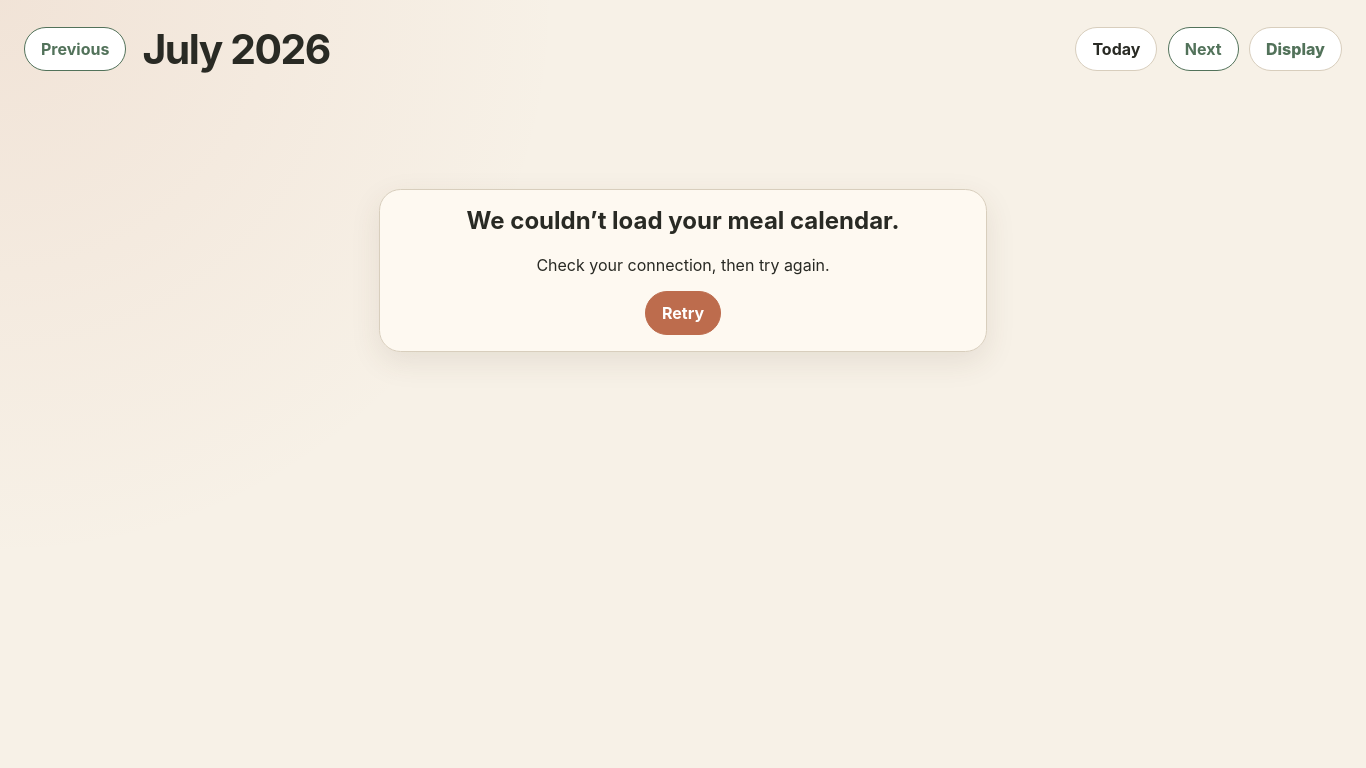
MealPlannerPage › shows a fatal initial error and retries both query families
expect the heading "We couldn’t load your meal calendar." is shown: met, box x1=467 y1=206 x2=899 y2=235
Click the button "Retry": (683, 313) x1=645 y1=291 x2=721 y2=335
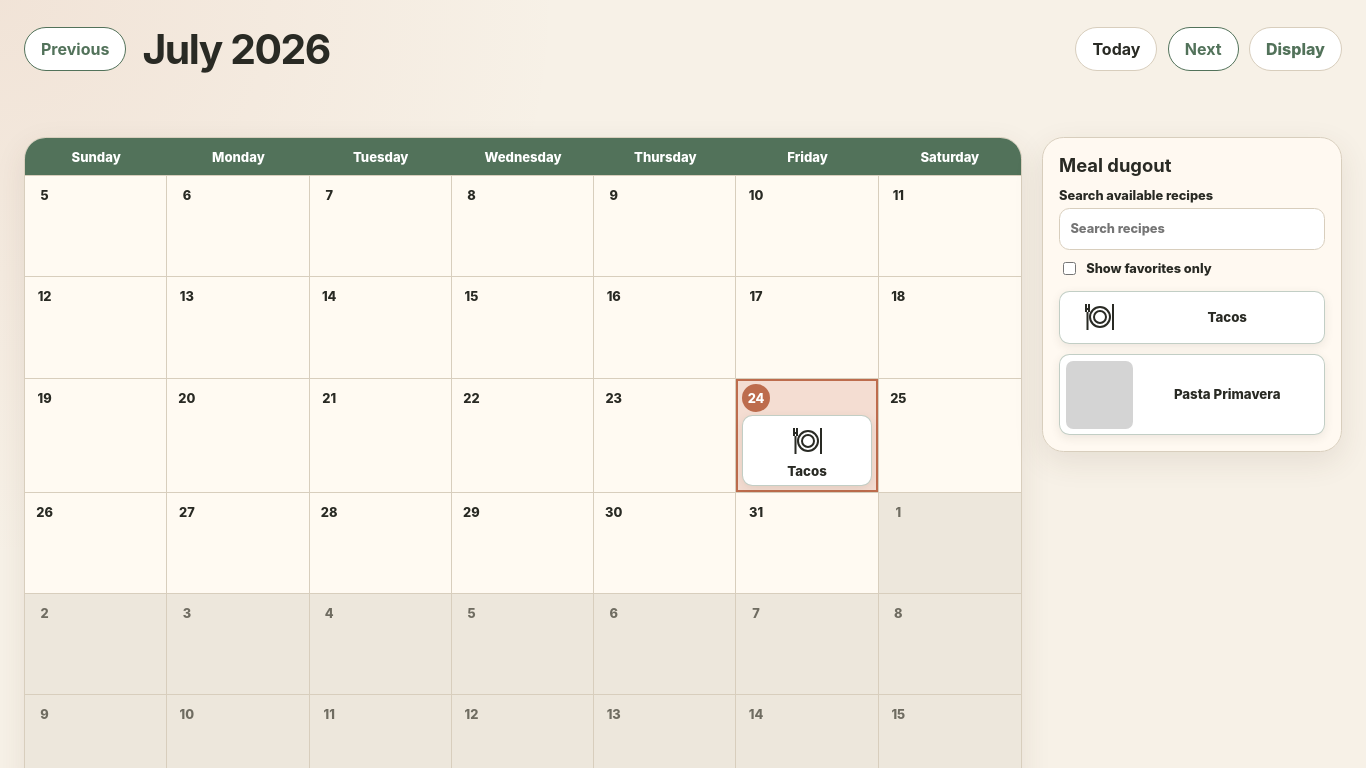
expect the text "Tacos" is shown 2 times: met, box x1=787 y1=464 x2=827 y2=480; x1=1207 y1=310 x2=1247 y2=325
expect the heading "We couldn’t load your meal calendar." is gone: met
